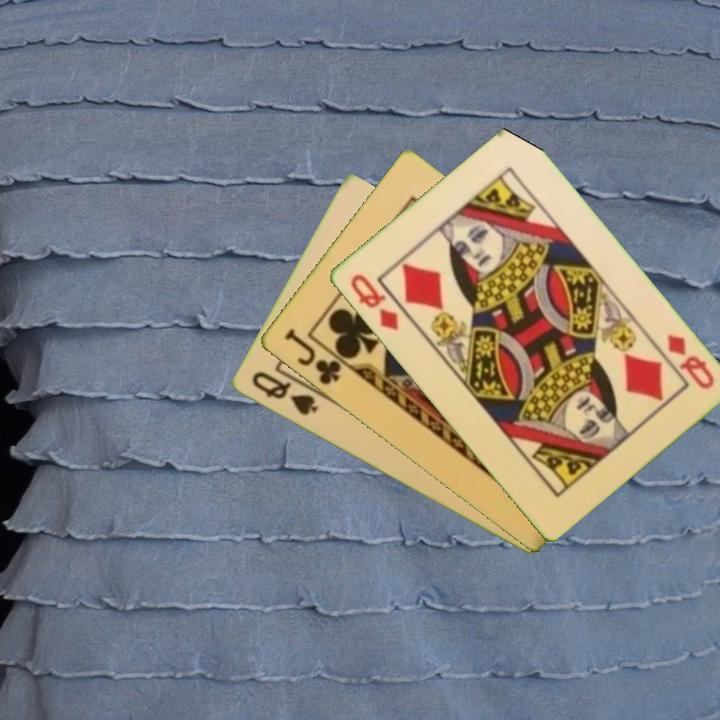Jc: (280, 324, 344, 388)
Qd: (346, 270, 401, 333), (662, 330, 717, 393)
Qs: (247, 367, 321, 419)
